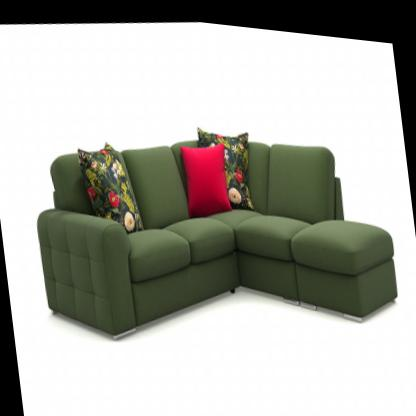Sofa: (22, 95, 354, 322)
